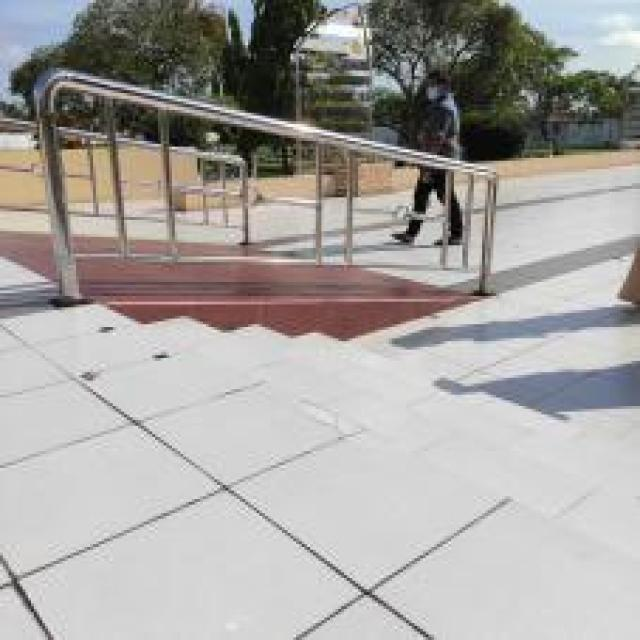downstair: (134, 323, 630, 585)
